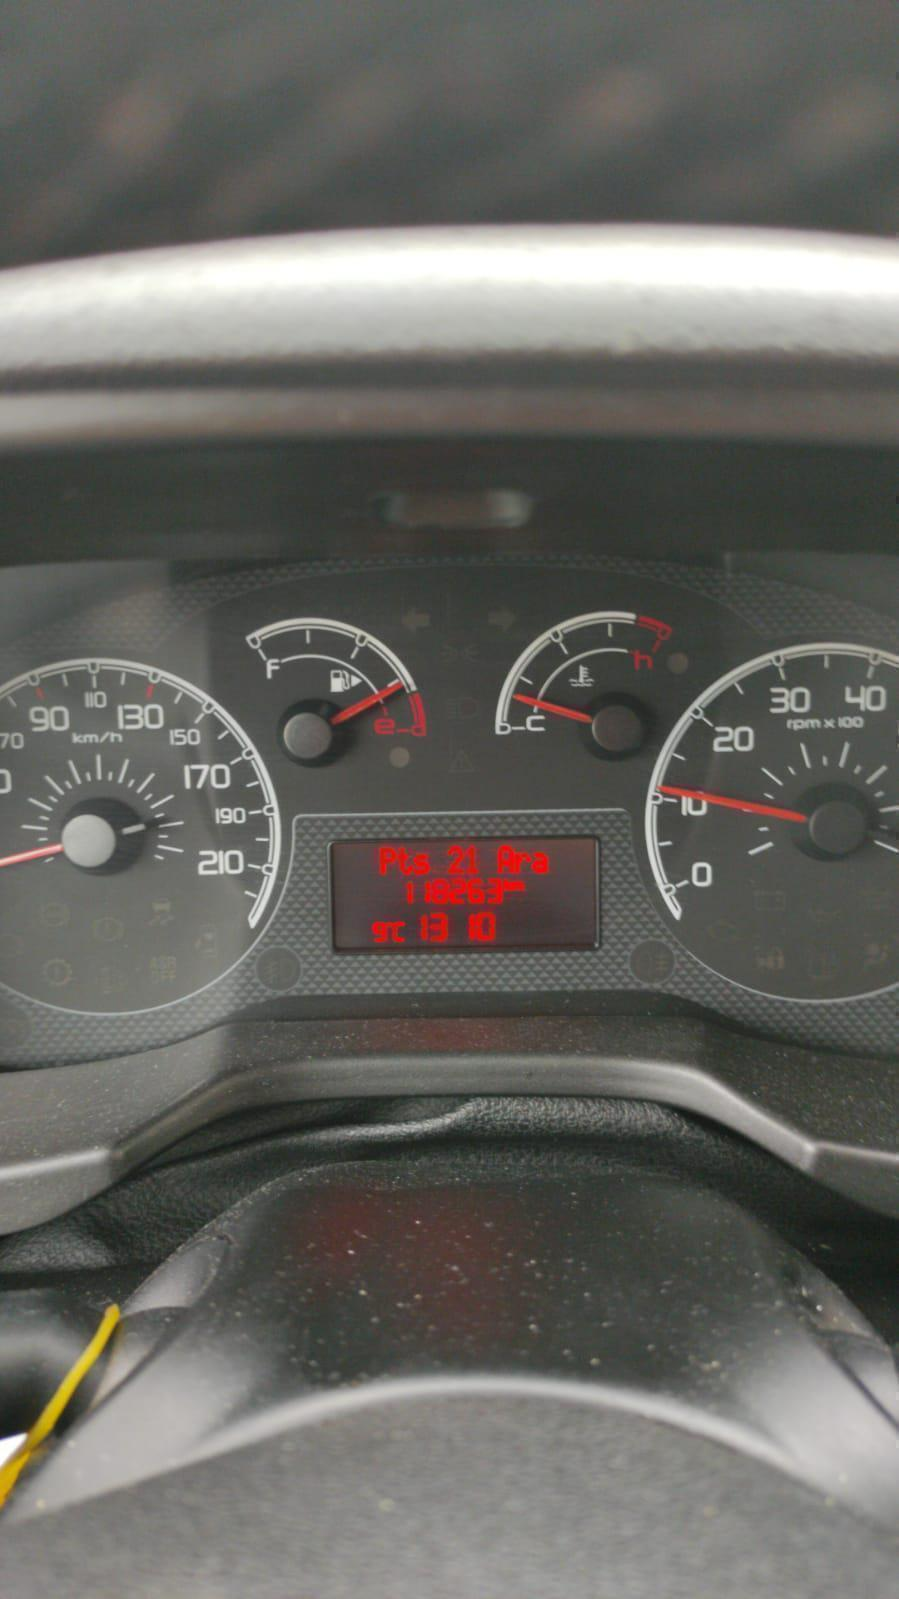0: (475, 910, 495, 943)
1: (467, 841, 481, 876), (467, 912, 475, 941), (423, 877, 431, 904), (420, 914, 427, 943), (406, 879, 413, 905)
2: (445, 843, 467, 876), (449, 877, 467, 905)
3: (428, 912, 449, 943), (487, 877, 502, 904)
6: (467, 877, 486, 905)
8: (432, 877, 449, 905)
9: (372, 920, 387, 944)
X: (394, 845, 413, 877), (378, 845, 395, 876), (497, 846, 514, 875), (530, 850, 549, 875), (413, 851, 431, 876), (391, 920, 407, 944), (514, 851, 529, 873), (513, 879, 524, 892), (503, 877, 512, 891)
odometer: (325, 834, 607, 957)
